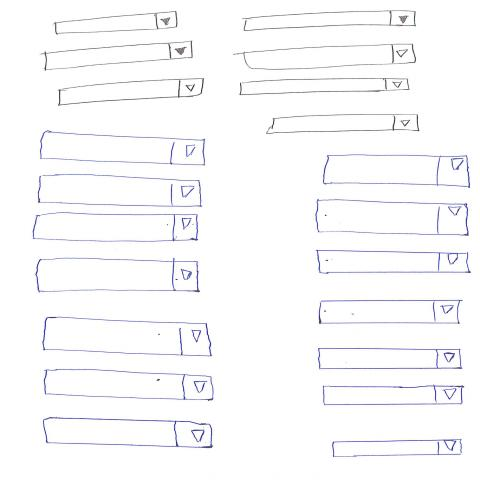Select: (43, 370, 215, 402), (43, 418, 214, 450), (244, 44, 418, 71), (45, 41, 194, 72), (58, 78, 205, 107), (316, 251, 472, 275), (319, 300, 463, 326), (243, 11, 418, 32), (318, 348, 463, 371), (266, 114, 420, 135), (55, 11, 179, 36), (239, 79, 411, 97), (323, 386, 466, 406), (333, 440, 464, 459)
